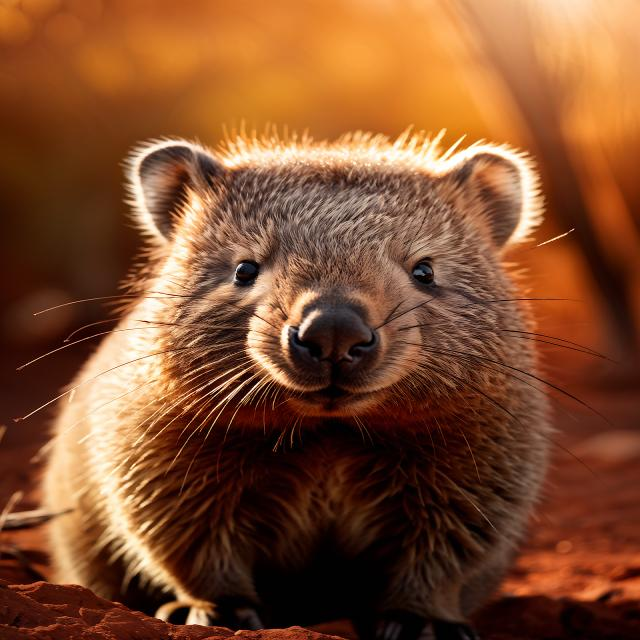Wombat: (40, 128, 558, 638)
